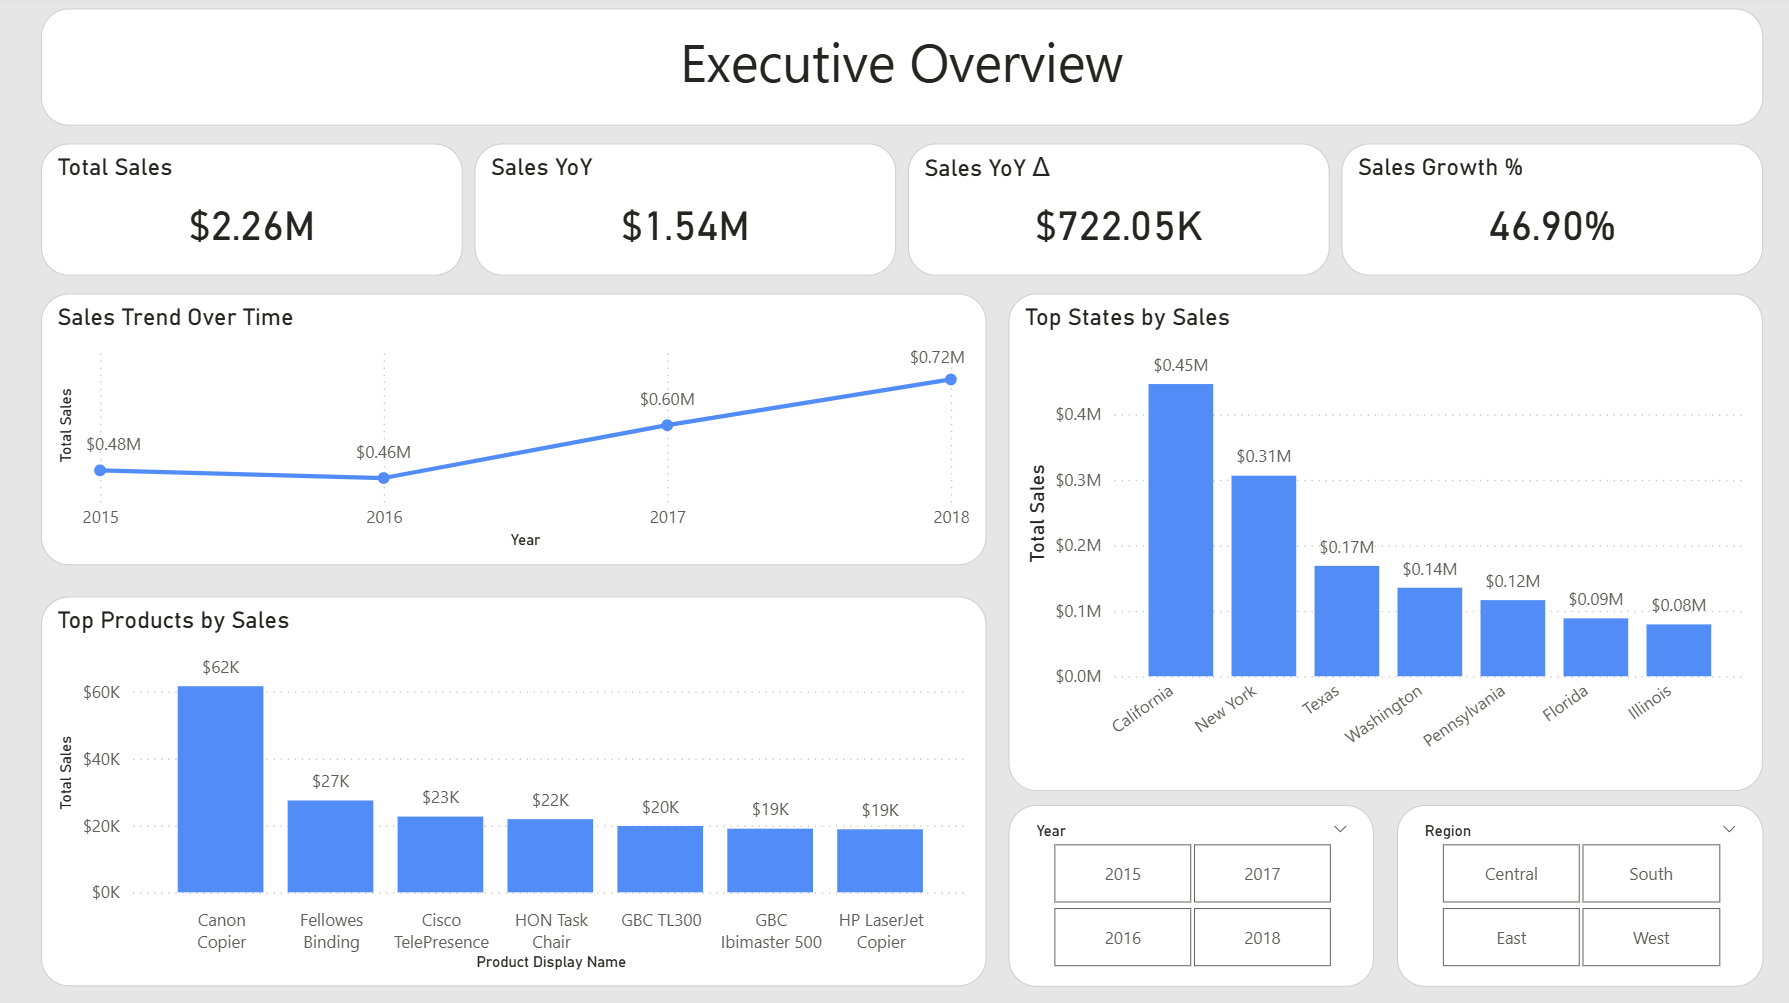

The dashboard page shown, as its layout file describes it:
{"tool":"powerbi","page":{"name":"Overview","canvas":[1280,720],"ordinal":0},"visuals":[{"type":"card","title":"Total Sales","fields":{"Values":["Fact_Sales.Total_Sales"]},"box":[32,105.7,299.9,93.9],"z":0},{"type":"card","title":"Sales YoY","fields":{"Values":["Fact_Sales.Sales YoY"]},"box":[340.4,105.7,299.9,93.9],"z":1000},{"type":"card","title":"Sales Growth %","fields":{"Values":["Fact_Sales.Sales Growth %"]},"box":[957.3,105.7,299.9,93.9],"z":2000},{"type":"textbox","box":[32,9.6,1225.2,83.2],"z":3000},{"type":"lineChart","title":"Sales Trend Over Time","fields":{"Category":["Dim_Date.Year"],"Y":["Fact_Sales.Total Sales"]},"box":[32,212.4,672.3,193.2],"z":4000},{"type":"clusteredColumnChart","title":"Top Products by Sales","fields":{"Category":["Fact_Sales.Product Display Name"],"Y":["Fact_Sales.Total Sales"]},"box":[32,428,672.3,277.5],"z":5000},{"type":"clusteredColumnChart","title":"Top States by Sales","fields":{"Category":["Dim_Geography.State"],"Y":["Fact_Sales.Total Sales"]},"box":[720.4,212.4,536.8,354.3],"z":6000},{"type":"card","title":"Sales YoY Δ","fields":{"Values":["Fact_Sales.Sales YoY Δ"]},"box":[648.9,105.7,299.9,93.9],"z":9000},{"type":"slicer","fields":{"Values":["Dim_Date.Year"]},"box":[720.4,576.3,260,129.1],"z":10000},{"type":"slicer","fields":{"Values":["Dim_Geography.Region"]},"box":[996.8,576.3,260.4,129.1],"z":11000}]}

Visuals, with their boxes in screenshot pixels (x1, y1, x2, y2), scaled from the page's 1280x720 canvas onto the 1789x1003 screenshot:
"Total Sales" card: box=[45, 147, 464, 278]
"Sales YoY" card: box=[476, 147, 895, 278]
"Sales Growth %" card: box=[1338, 147, 1757, 278]
textbox: box=[45, 13, 1757, 129]
"Sales Trend Over Time" lineChart: box=[45, 296, 984, 565]
"Top Products by Sales" clusteredColumnChart: box=[45, 596, 984, 983]
"Top States by Sales" clusteredColumnChart: box=[1007, 296, 1757, 789]
"Sales YoY Δ" card: box=[907, 147, 1326, 278]
slicer - Dim_Date.Year: box=[1007, 803, 1370, 983]
slicer - Dim_Geography.Region: box=[1393, 803, 1757, 983]
